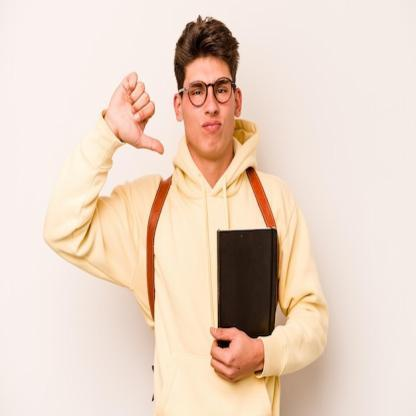thumb_down: (105, 67, 168, 160)
